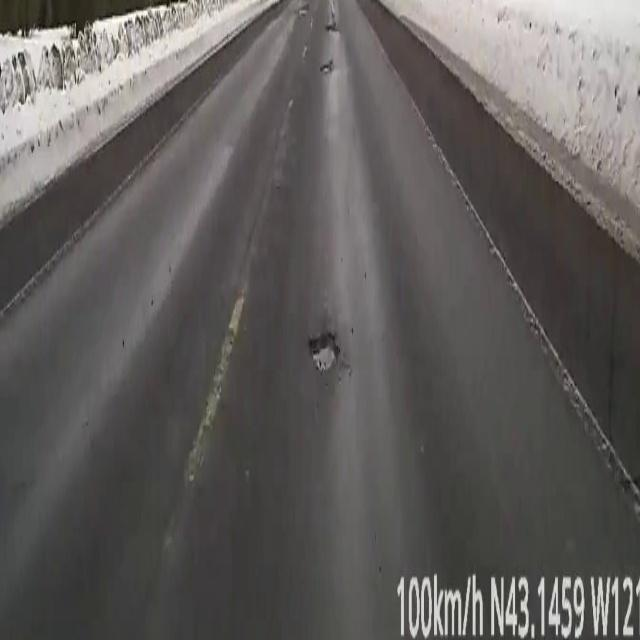pothole: (310, 334, 340, 372), (320, 58, 333, 68)
